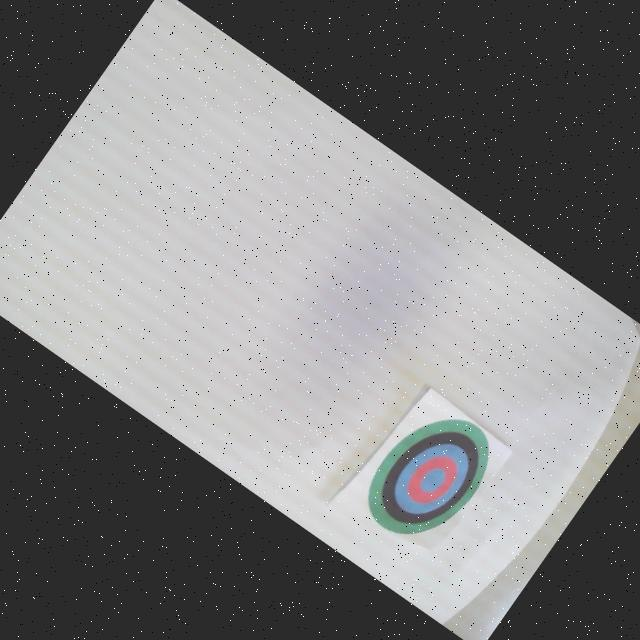COGNITIVE: (350, 392, 508, 561)
